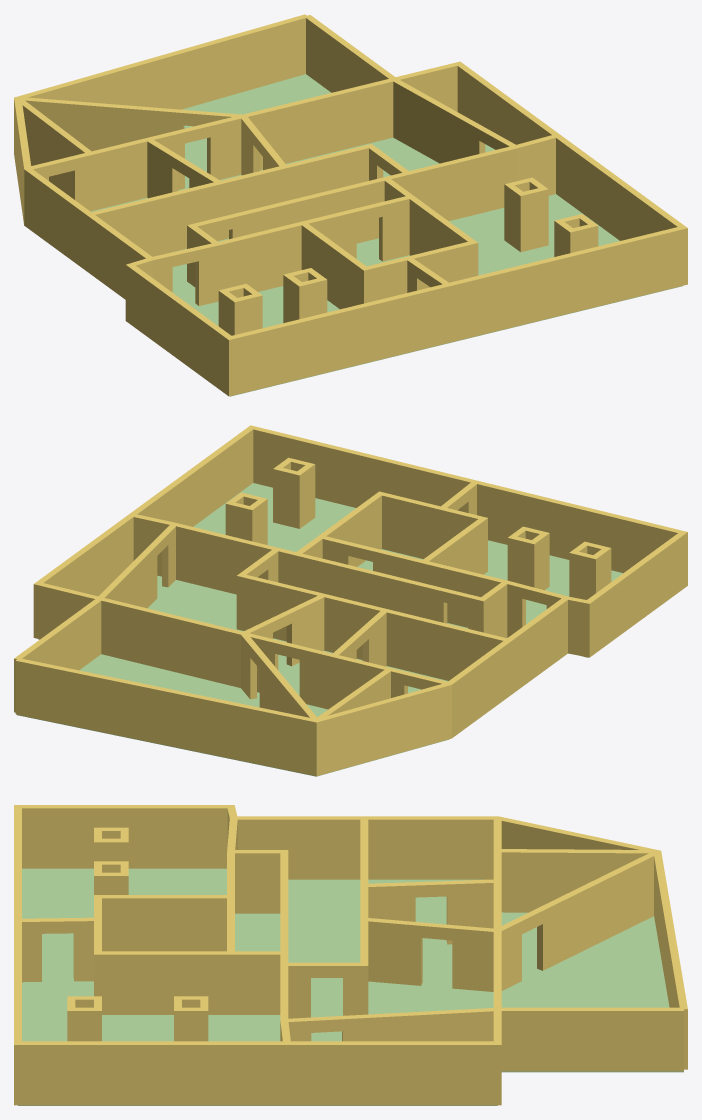
3 renders of one model, top to bottom at view 1: azimuth 30°, elevation 25°; view 2: azimuth 150°, elevation 25°; view 3: azimuth 270°, elevation 25°, orthographic. The views are drawn at different scales.
Visible parts, largest first — view 1: Wall335_mesh_recycled, Wall100_mesh_recycled, Wall114_mesh_recycled, Floor_Object140_mesh_recycled, Wall414_mesh_recycled, Wall155_mesh_recycled, Wall342_mesh_recycled, Wall121_mesh_recycled, Wall224_mesh_recycled, Wall184_mesh_recycled, Wall230_mesh_recycled, Wall263_mesh_recycled (+31 smaller); view 2: Wall100_mesh_recycled, Wall335_mesh_recycled, Wall114_mesh_recycled, Floor_Object140_mesh_recycled, Wall205_mesh_recycled, Wall263_mesh_recycled, Wall414_mesh_recycled, Wall342_mesh_recycled, Wall184_mesh_recycled, Wall155_mesh_recycled, Wall224_mesh_recycled, Wall293_mesh_recycled (+31 smaller); view 3: Floor_Object140_mesh_recycled, Wall342_mesh_recycled, Wall244_mesh_recycled, Wall107_mesh_recycled, Wall414_mesh_recycled, Floor_Object95_mesh_recycled, Wall121_mesh_recycled, Wall191_mesh_recycled, Wall299_mesh_recycled, Wall177_mesh_recycled, Wall428_mesh_recycled, Wall148_mesh_recycled (+21 smaller).
Part boxes in pixels (box(x1,y1,x2,y2)): Wall335_mesh_recycled: box(250, 227, 687, 390); Wall100_mesh_recycled: box(14, 14, 308, 109); Wall114_mesh_recycled: box(242, 61, 459, 169); Floor_Object140_mesh_recycled: box(91, 137, 682, 391); Wall414_mesh_recycled: box(125, 264, 231, 396); Wall155_mesh_recycled: box(90, 116, 242, 210); Wall342_mesh_recycled: box(556, 135, 687, 240); Wall121_mesh_recycled: box(18, 97, 244, 151); Wall224_mesh_recycled: box(408, 146, 517, 220); Wall184_mesh_recycled: box(90, 182, 221, 256); Wall230_mesh_recycled: box(393, 79, 515, 163); Wall263_mesh_recycled: box(188, 172, 409, 243); Wall100_mesh_recycled: box(15, 658, 316, 776); Wall335_mesh_recycled: box(251, 425, 663, 573); Wall114_mesh_recycled: box(33, 583, 244, 687); Floor_Object140_mesh_recycled: box(38, 483, 622, 695); Wall205_mesh_recycled: box(316, 683, 451, 775); Wall263_mesh_recycled: box(277, 548, 483, 632); Wall414_mesh_recycled: box(587, 532, 687, 657); Wall342_mesh_recycled: box(129, 425, 253, 526); Wall184_mesh_recycled: box(385, 609, 507, 680); Wall155_mesh_recycled: box(244, 633, 390, 709); Wall224_mesh_recycled: box(174, 523, 278, 594); Wall293_mesh_recycled: box(379, 491, 487, 558); Floor_Object140_mesh_recycled: box(18, 878, 497, 1105); Wall342_mesh_recycled: box(14, 1041, 286, 1105); Wall244_mesh_recycled: box(287, 1041, 501, 1105); Wall107_mesh_recycled: box(497, 1007, 683, 1071); Wall414_mesh_recycled: box(14, 805, 233, 868); Floor_Object95_mesh_recycled: box(501, 912, 683, 1072); Wall121_mesh_recycled: box(498, 852, 656, 990); Wall191_mesh_recycled: box(364, 816, 498, 879); Wall299_mesh_recycled: box(94, 951, 230, 1014); Wall177_mesh_recycled: box(364, 918, 496, 991); Wall428_mesh_recycled: box(234, 816, 364, 879); Wall148_mesh_recycled: box(498, 849, 656, 912).
Size of the model in its own units: 21.3 by 2.6 by 25.3.
